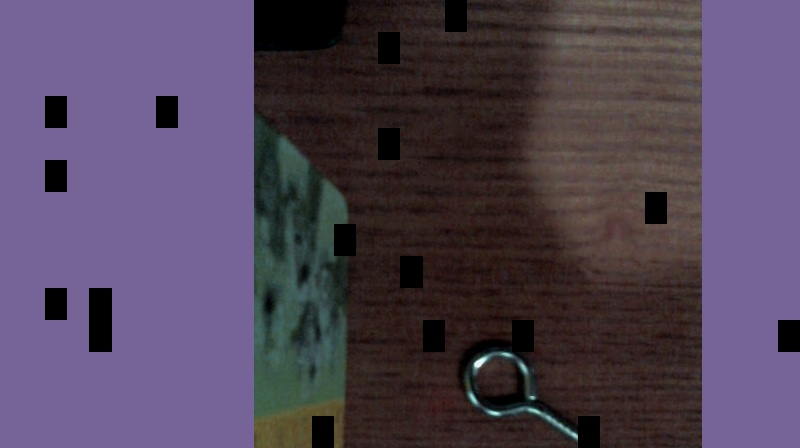O001: (458, 338, 603, 447)
